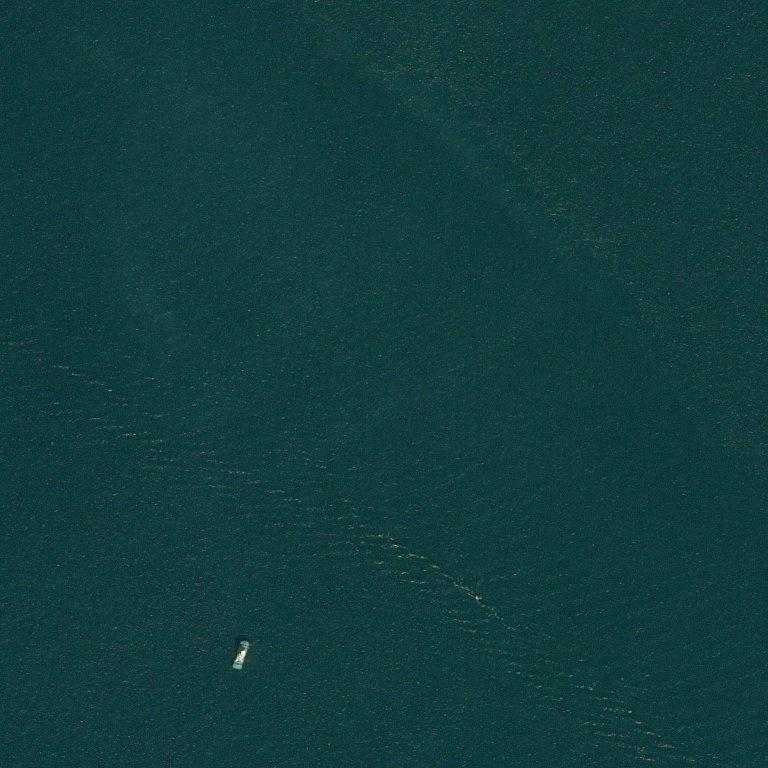ship: (231, 600, 252, 633)
